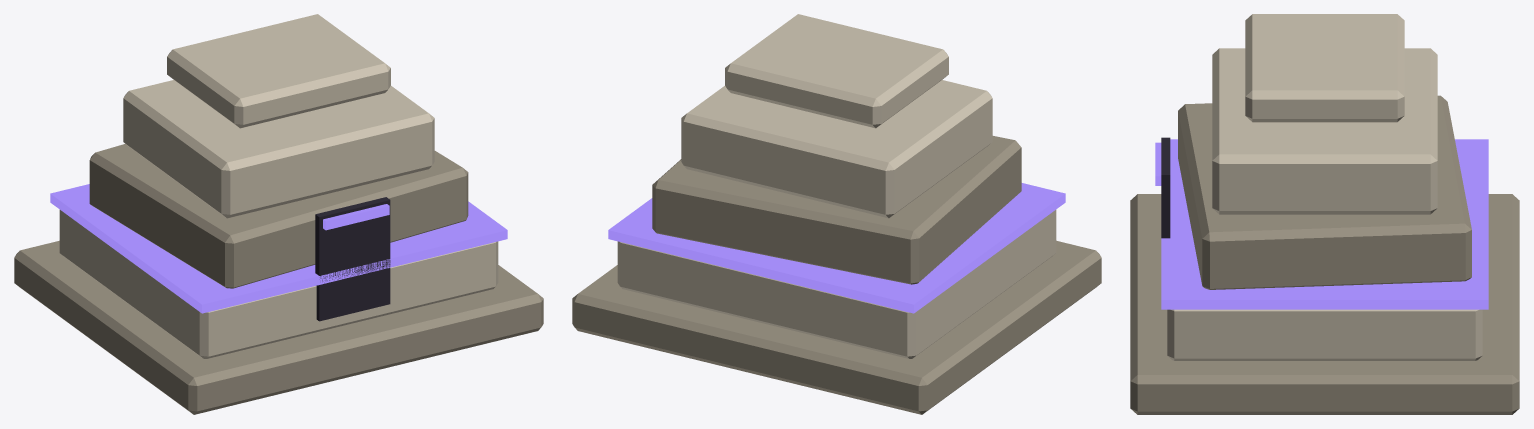
File: exo-cache.glb
3 renders of one model, left to right at view 1: azimuth 30°, elevation 25°; view 2: azimuth 150°, elevation 25°; view 3: azimuth 270°, elevation 25°, orthographic. The views are drawn at different scales.
Visible parts, largest first — view 1: body, seal; view 2: body, seal; view 3: body, seal.
Boxes of the visible parts, left/top/right/bottom form: body: left=14, top=14, right=543, bottom=414; seal: left=50, top=184, right=507, bottom=313; body: left=572, top=14, right=1101, bottom=414; seal: left=608, top=183, right=1065, bottom=313; body: left=1130, top=14, right=1519, bottom=414; seal: left=1155, top=139, right=1488, bottom=309.
Bounding box in the file's own units: 5 × 3.4 × 4.4.
